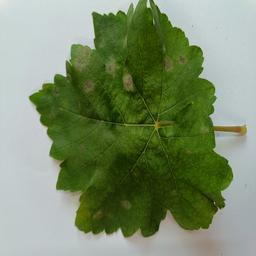Powdery-Mildew: (72, 48, 95, 77), (160, 49, 192, 69), (119, 65, 137, 89), (78, 81, 95, 97), (192, 120, 209, 136), (118, 197, 134, 214), (82, 207, 98, 224), (102, 53, 118, 69)
